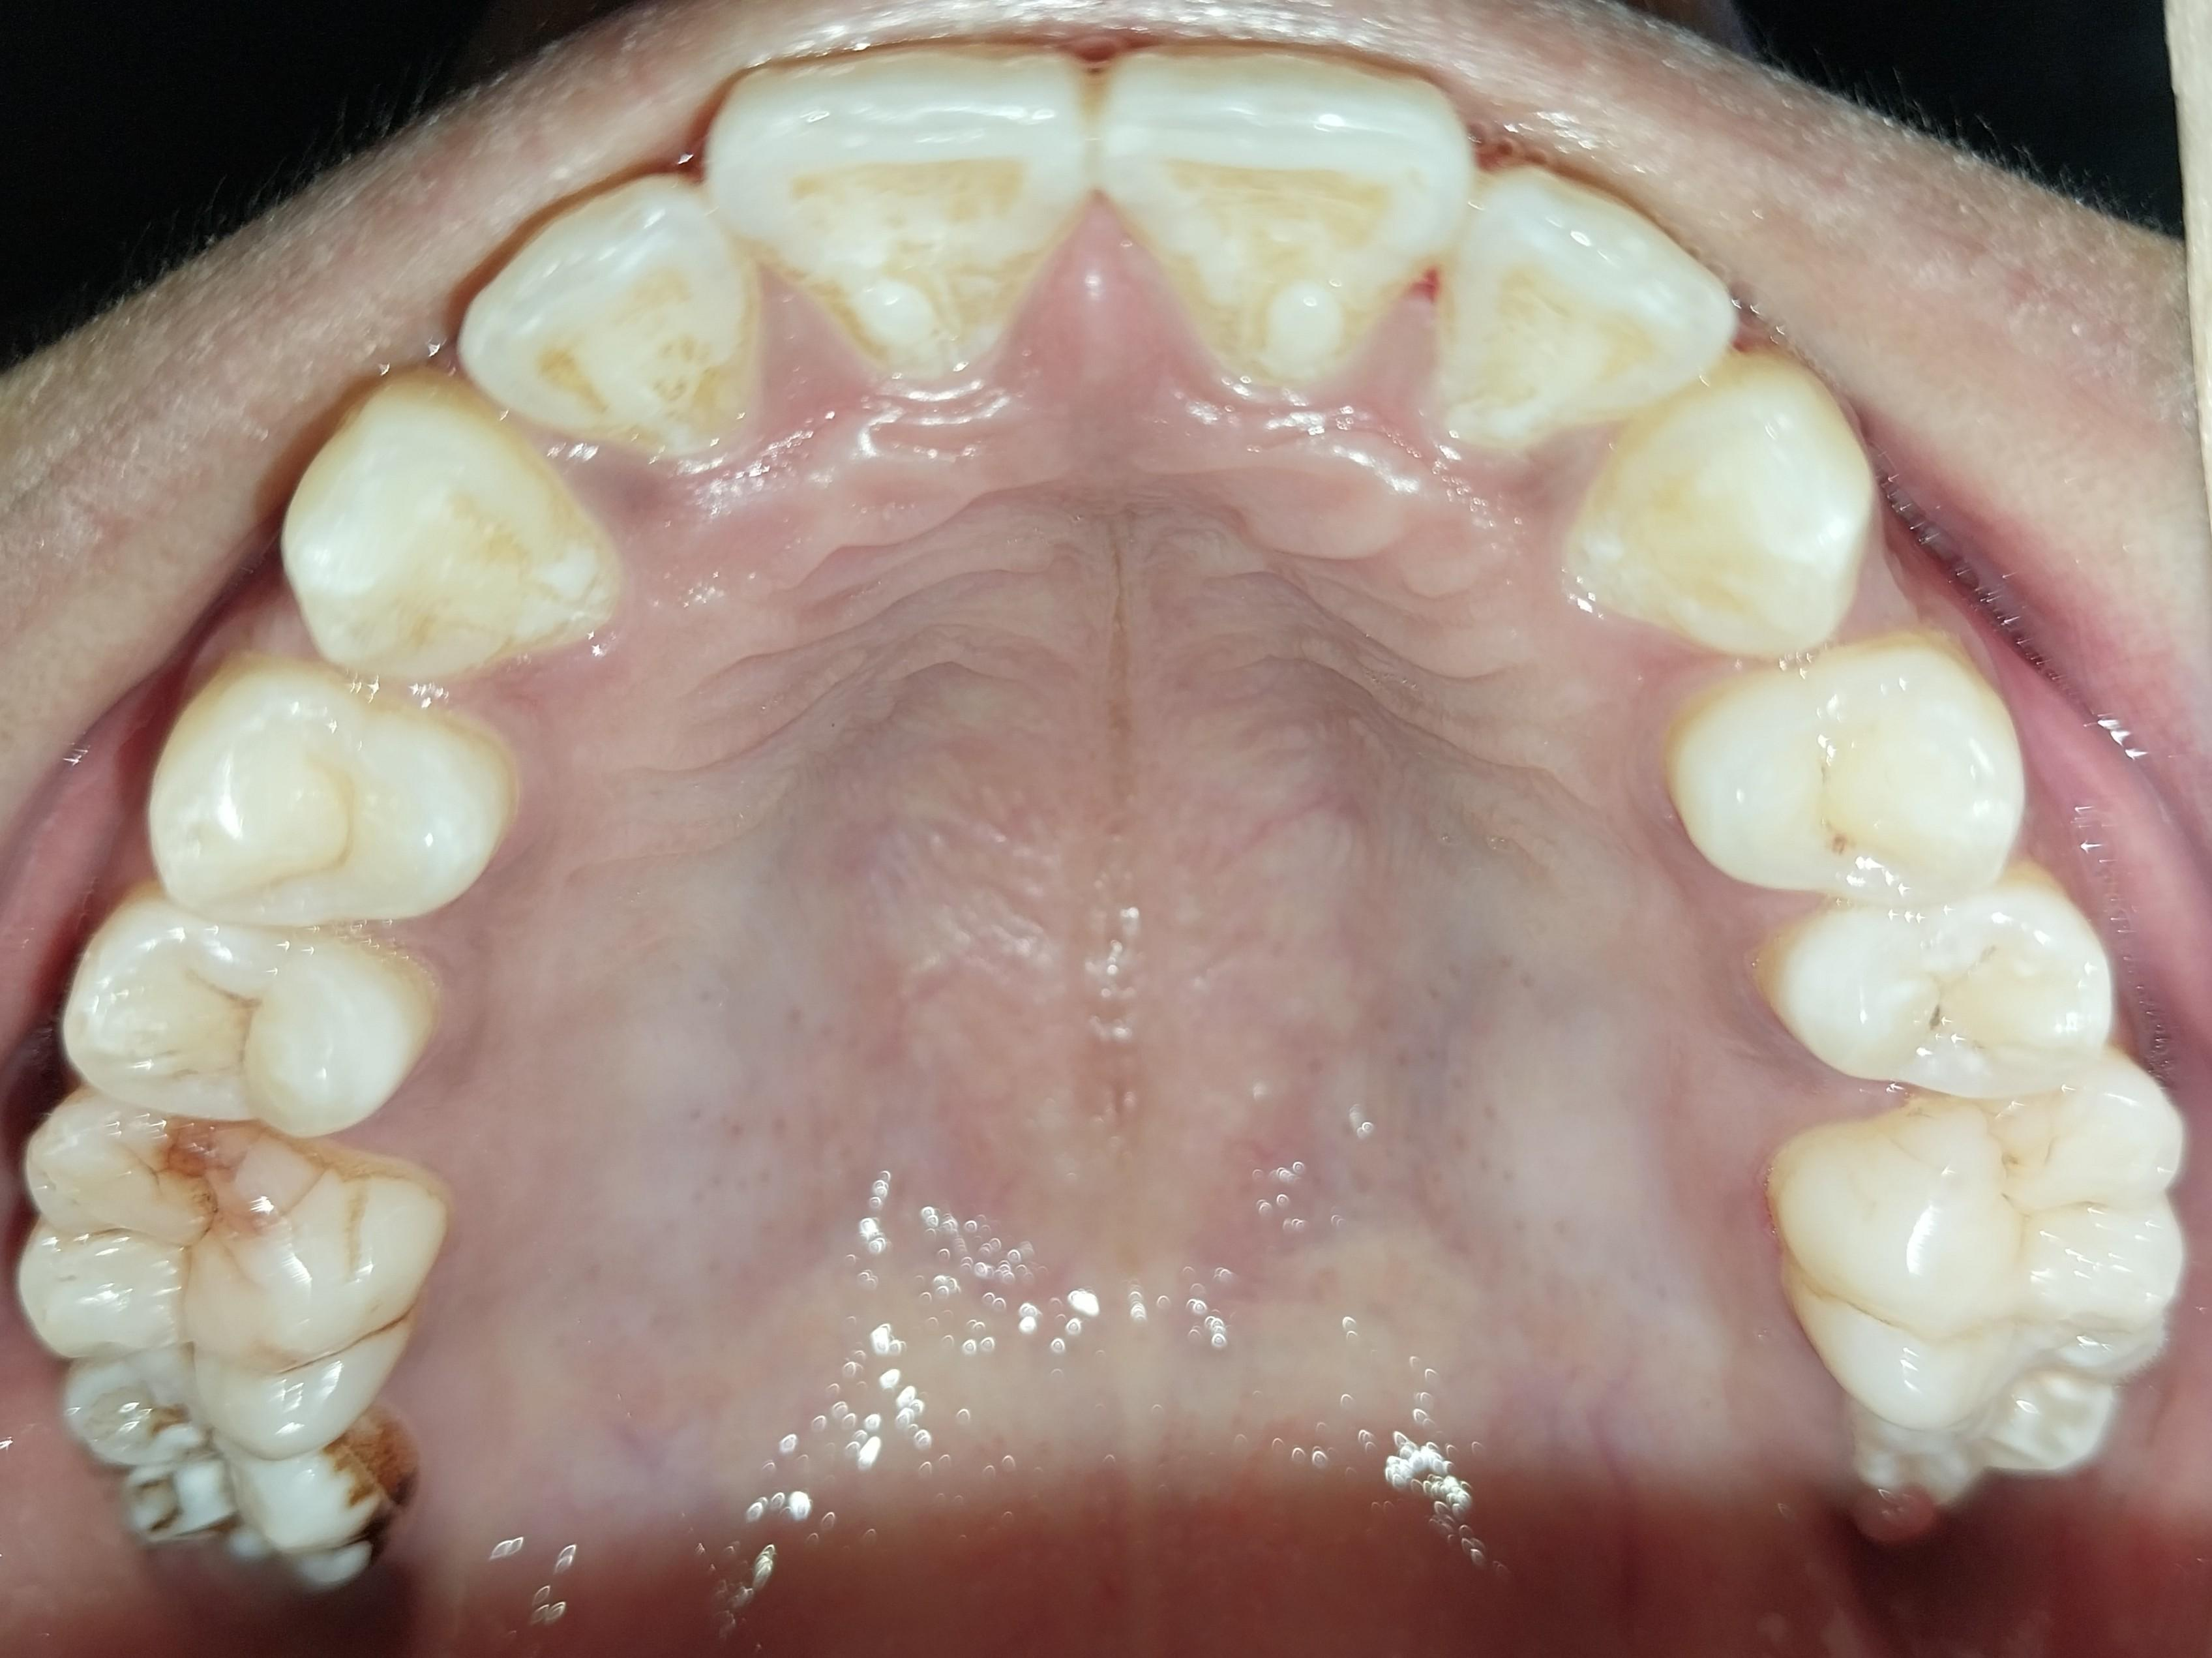D: (14, 1095, 425, 1475)
